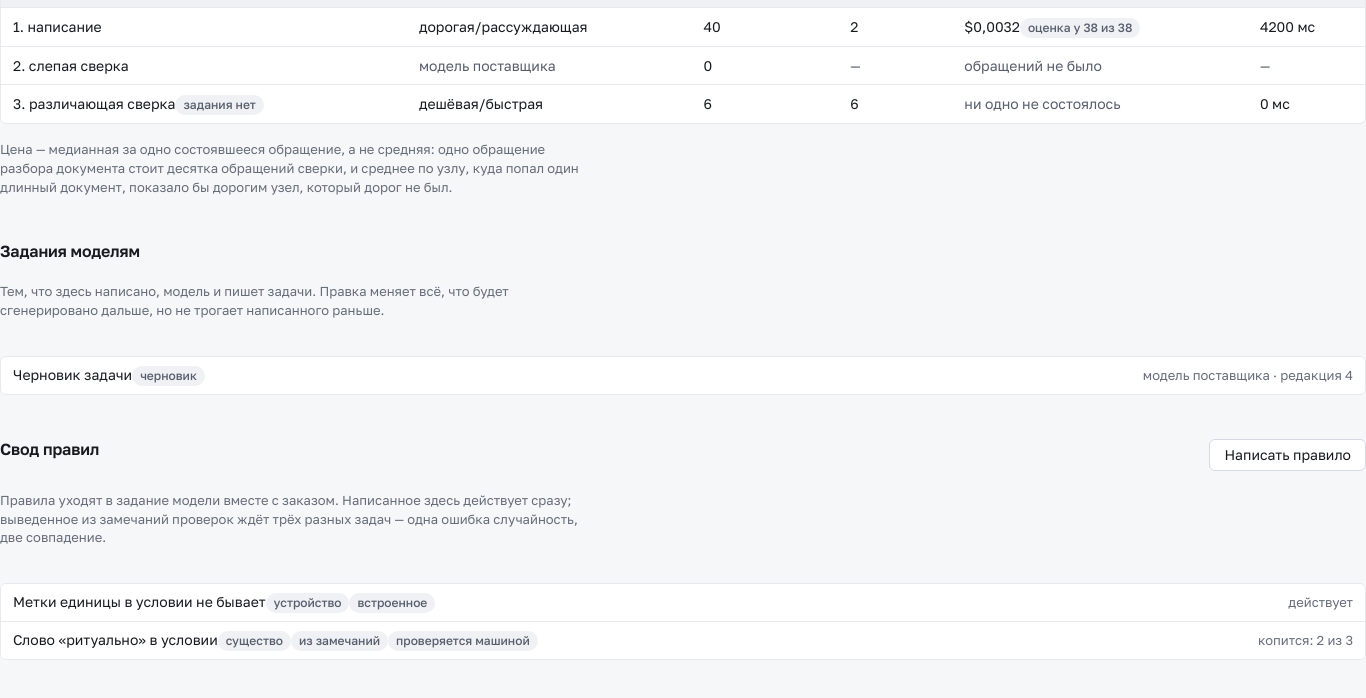
Test case: мастерская › отказ по чужой правке показывается словами сервера
(page scrolled)
Click the text "Черновик задачи" at (109, 375), box [13,365,205,386]
(page scrolled)
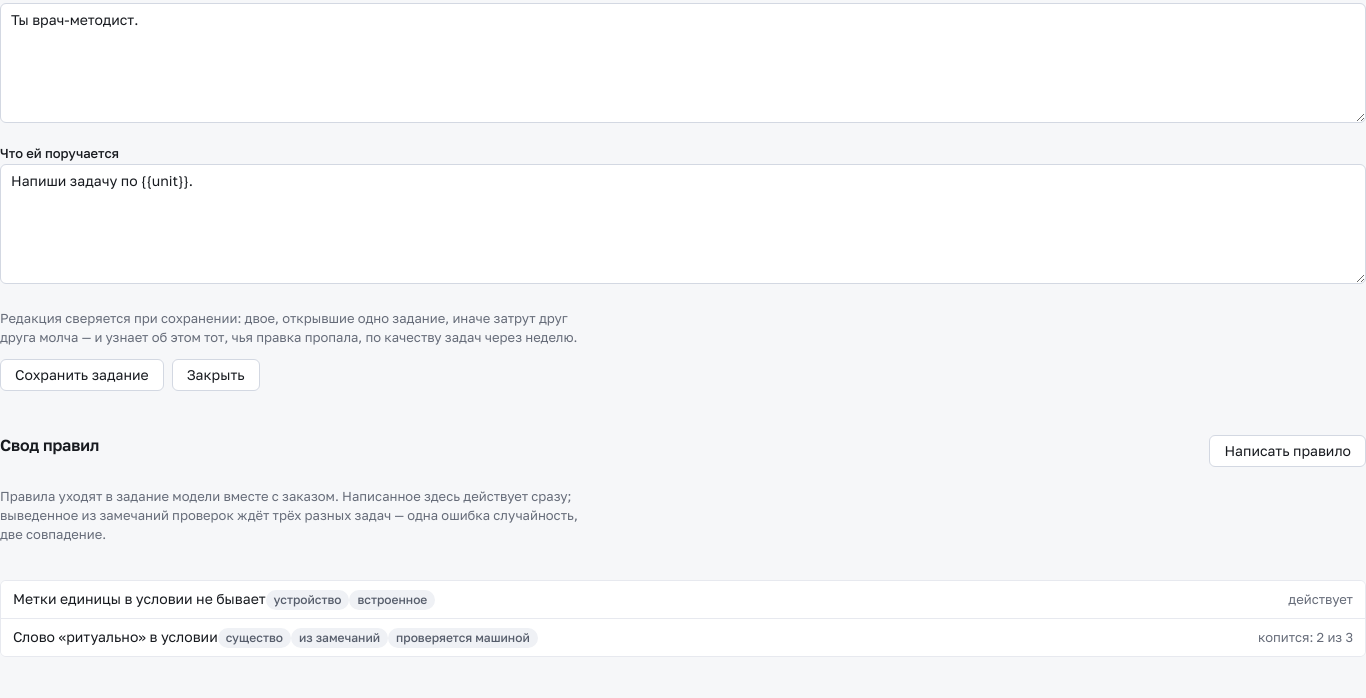
Click the button "Сохранить задание" at (82, 375), box [0,359,164,391]
(page scrolled)
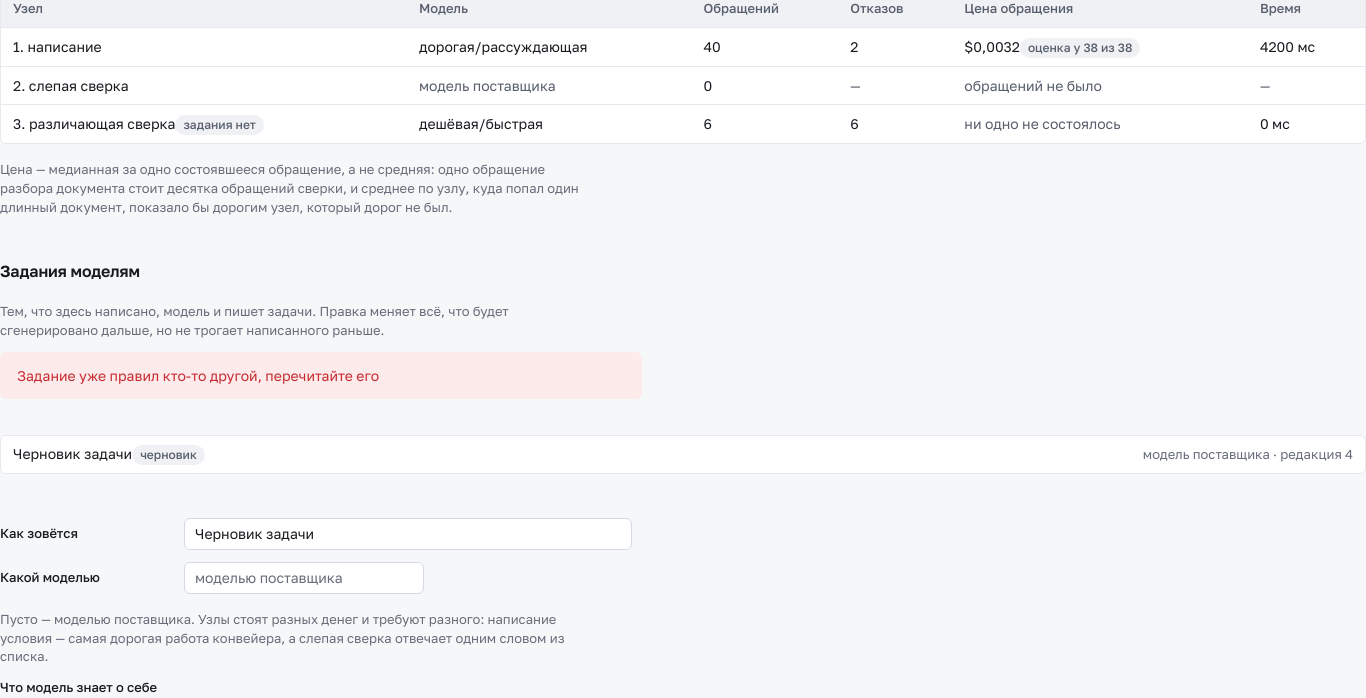
Check: the text "Задание уже правил кто-то другой, перечитайте его" is shown, box [0,352,642,399]
